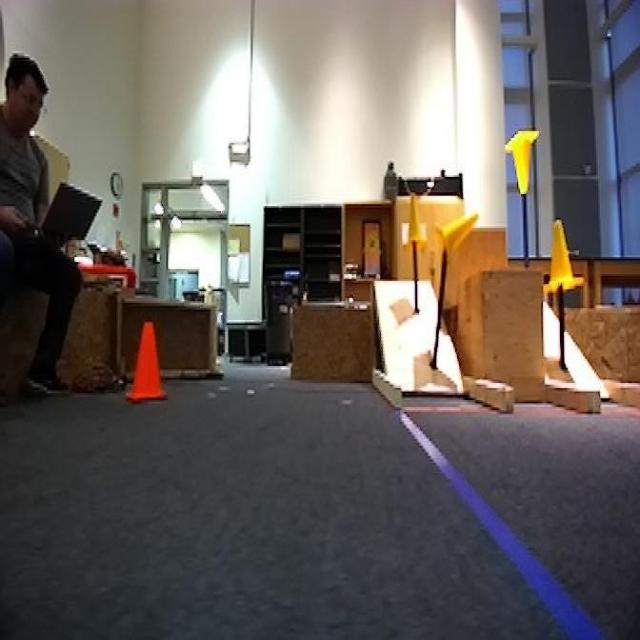frc_cone: (546, 223, 582, 298), (503, 124, 540, 192), (435, 213, 481, 262), (400, 189, 429, 254)
